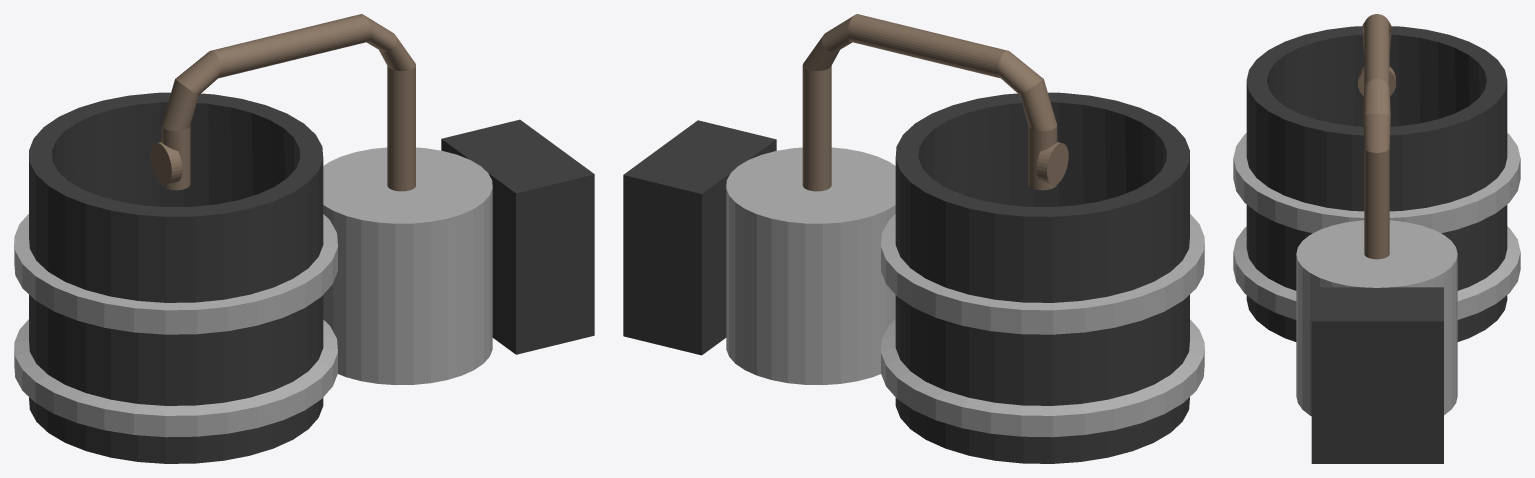
File: Filter_T2.fbx
3 views of the same model, side by side, from view 1: azimuth 30°, elevation 25°; view 2: azimuth 150°, elevation 25°; view 3: azimuth 270°, elevation 25° (orthographic). The views are drawn at different scales.
Visible parts, largest first — view 1: Filter_T2; view 2: Filter_T2; view 3: Filter_T2.
Part boxes in pixels (x1,y1,x2,y2): Filter_T2: (14,14,594,463); Filter_T2: (623,14,1204,463); Filter_T2: (1233,14,1520,463).
Bounding box in the file's own units: 148 × 92.39 × 79.73.
